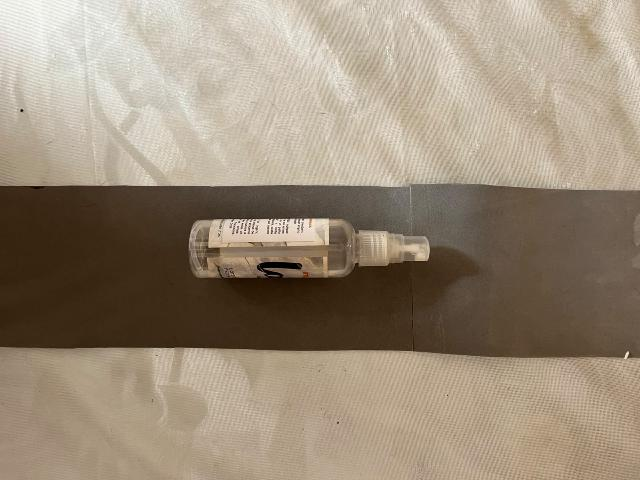PET: (180, 189, 462, 336)
